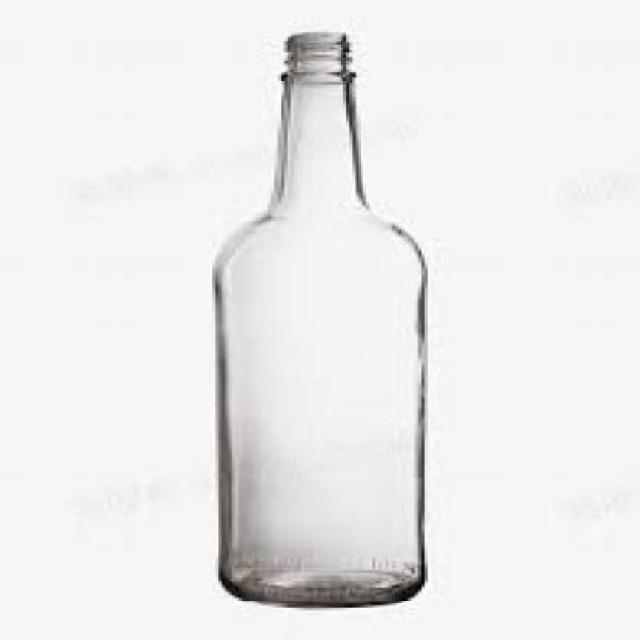kaca: (209, 29, 425, 608)
